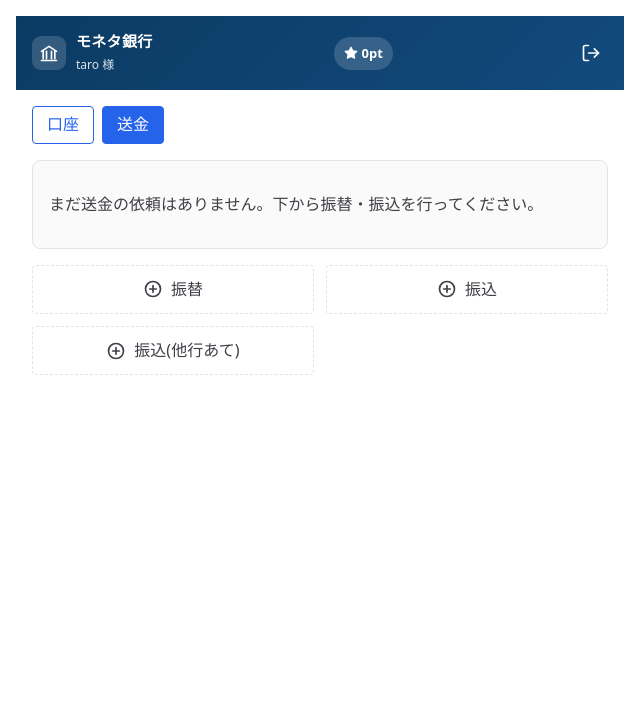
Test: 振込(他行あて)は非機能なプレースホルダ(docs/adr/0015決定7) › 振替/振込タイルと排他的に切り替わる(同時に2つのフォーム/案内は出ない)
Click the button "振込": (467, 289) [326,265,608,314]
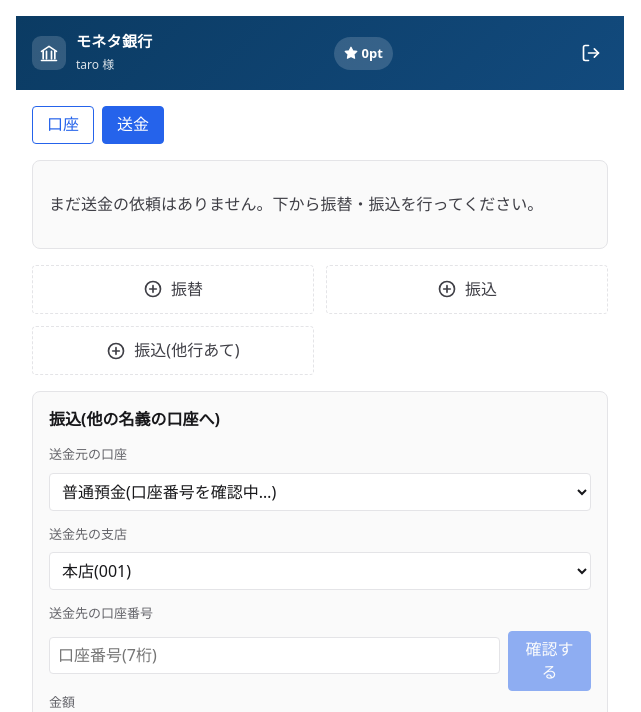
expect the dropdown labelled "送金先の支店" is shown: met, box [49,552,591,590]
Click the button "振込(他行あて)": (173, 351) [32,326,314,375]
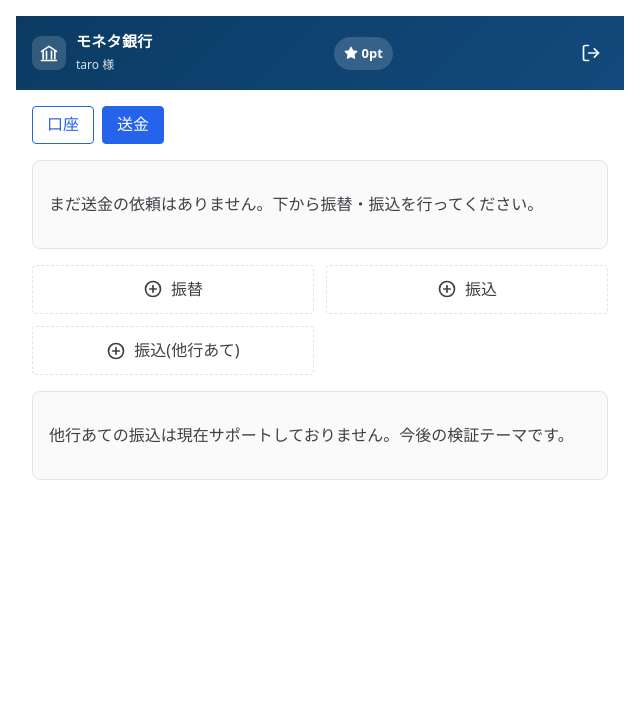
expect the label labelled "送金先の支店" is gone: met
expect the text "他行あての振込は現在サポートしておりません。今後の検証テーマです。" is shown: met, box [49,424,591,447]
